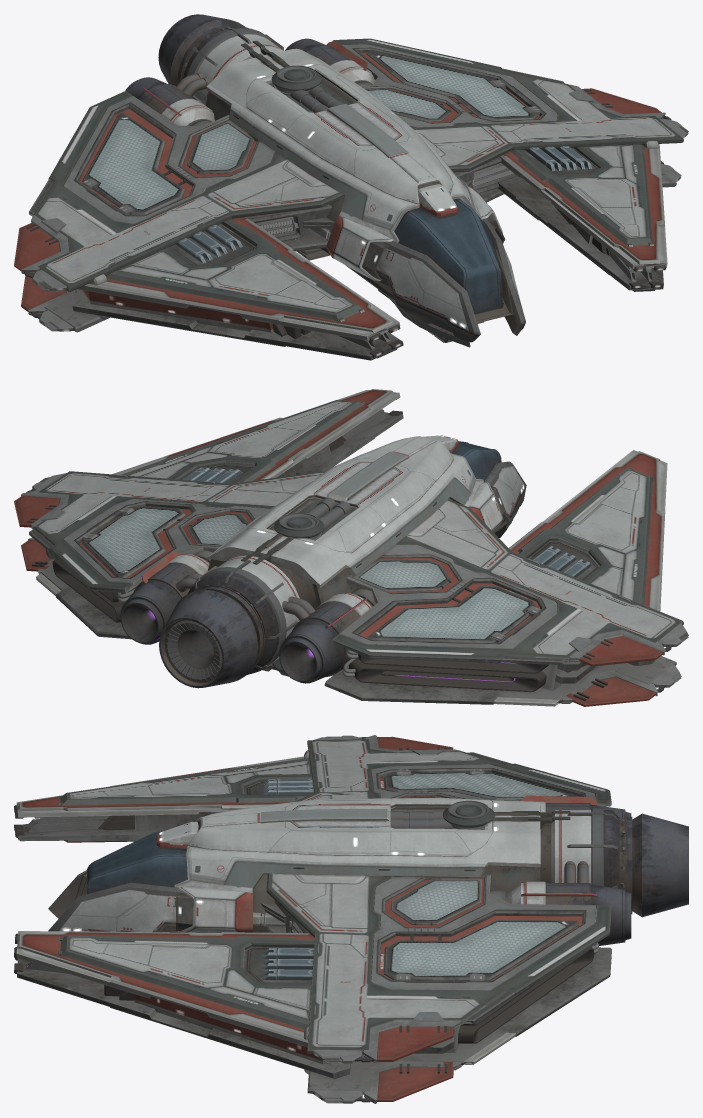
The model's file is hostile.glb.
The picture shows the model from 3 angles, top to bottom: view 1: azimuth 30°, elevation 25°; view 2: azimuth 150°, elevation 25°; view 3: azimuth 270°, elevation 25°; orthographic projection. The views are drawn at different scales.
Visible parts, largest first — view 1: Cube.003, Cube.010; view 2: Cube.003, Cube.010; view 3: Cube.003, Cube.010.
Boxes of the visible parts, x1=… form: Cube.003: x1=14, y1=38, x2=688, y2=360; Cube.010: x1=125, y1=14, x2=525, y2=347; Cube.003: x1=14, y1=389, x2=688, y2=706; Cube.010: x1=120, y1=435, x2=526, y2=688; Cube.003: x1=14, y1=735, x2=611, y2=1103; Cube.010: x1=48, y1=795, x2=688, y2=945.
Size of the model in its own units: 41.49 by 9.43 by 36.43.
Materials: 2 (2 with a texture image).
